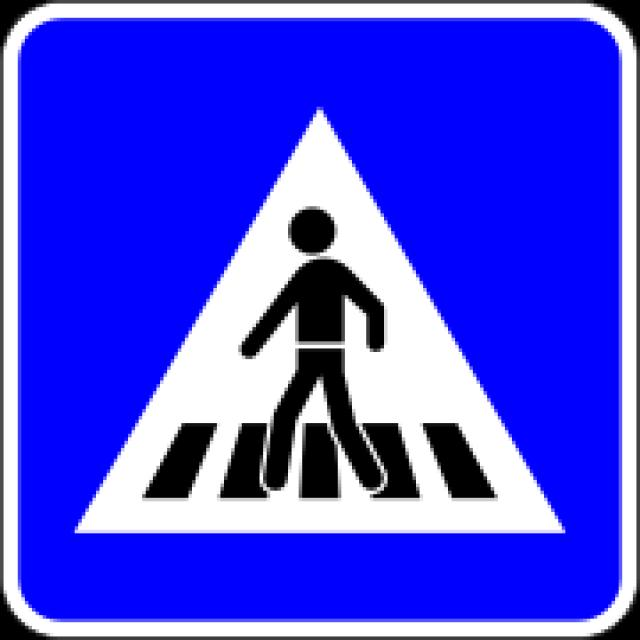Pedestrian crosswalk: (42, 50, 600, 569)
